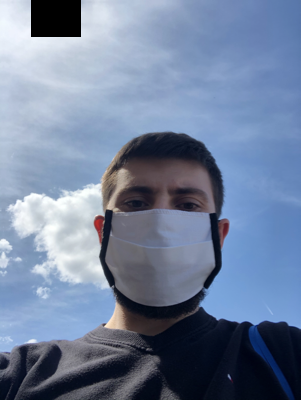with_mask: (100, 179, 221, 318)
